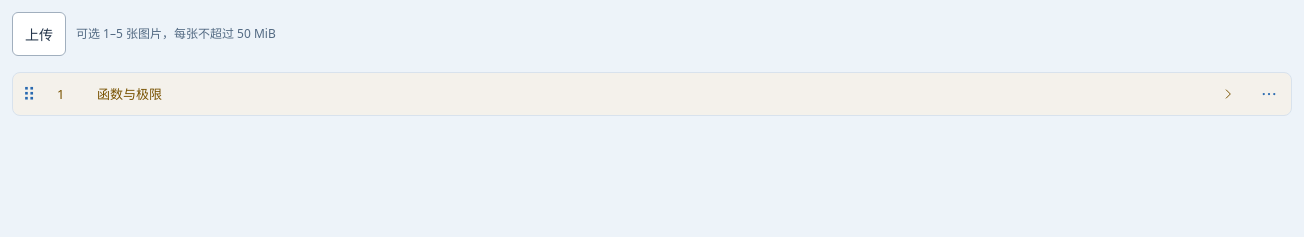
Test case: reviewed curriculum › keeps inline rename alive when a confirmed outline first becomes a draft
Right-click the button with aria-label "章节 1 ".
right_click(130, 94)  # box [45, 73, 1247, 115]
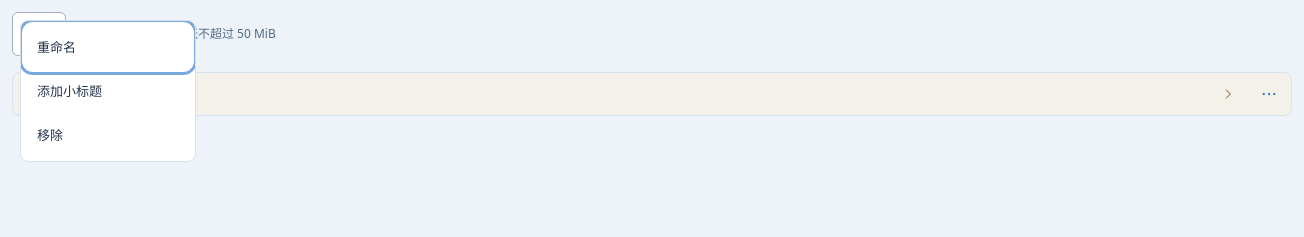
Click the menu item "重命名".
click(108, 47)  # box [25, 25, 191, 69]
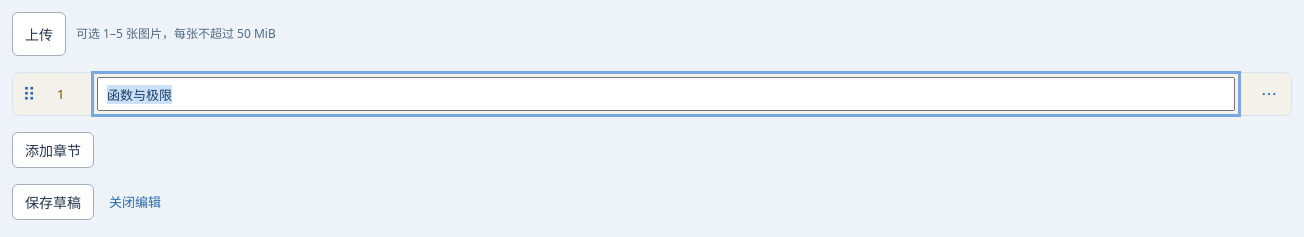
Replace the text in the field named "章节 1标题" with "重命名章节" at {"x": 666, "y": 94}, box [97, 77, 1235, 111]
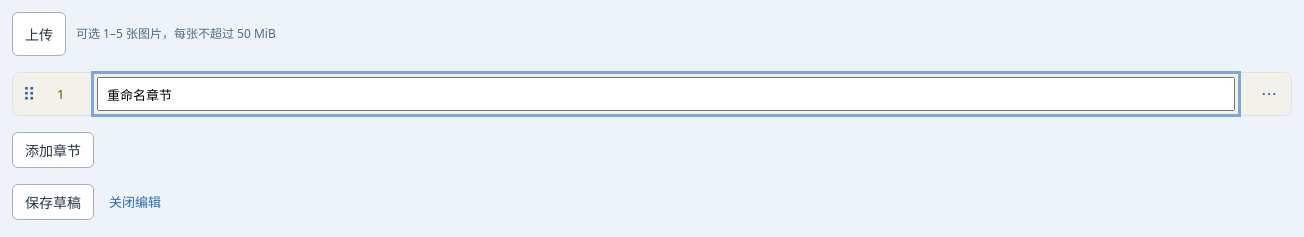
Press Enter in the field named "章节 1标题", box [97, 77, 1235, 111]
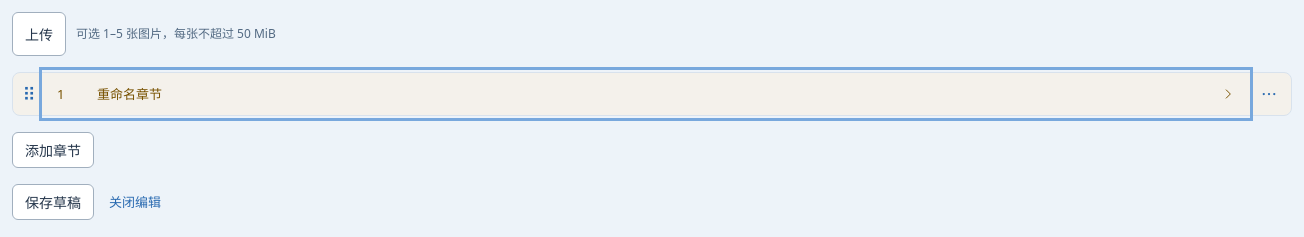
Expected: the button "保存草稿" is enabled, [12, 184, 94, 220]
Expected: the button "章节 1 重命名章节" is shown, [45, 73, 1247, 115]
